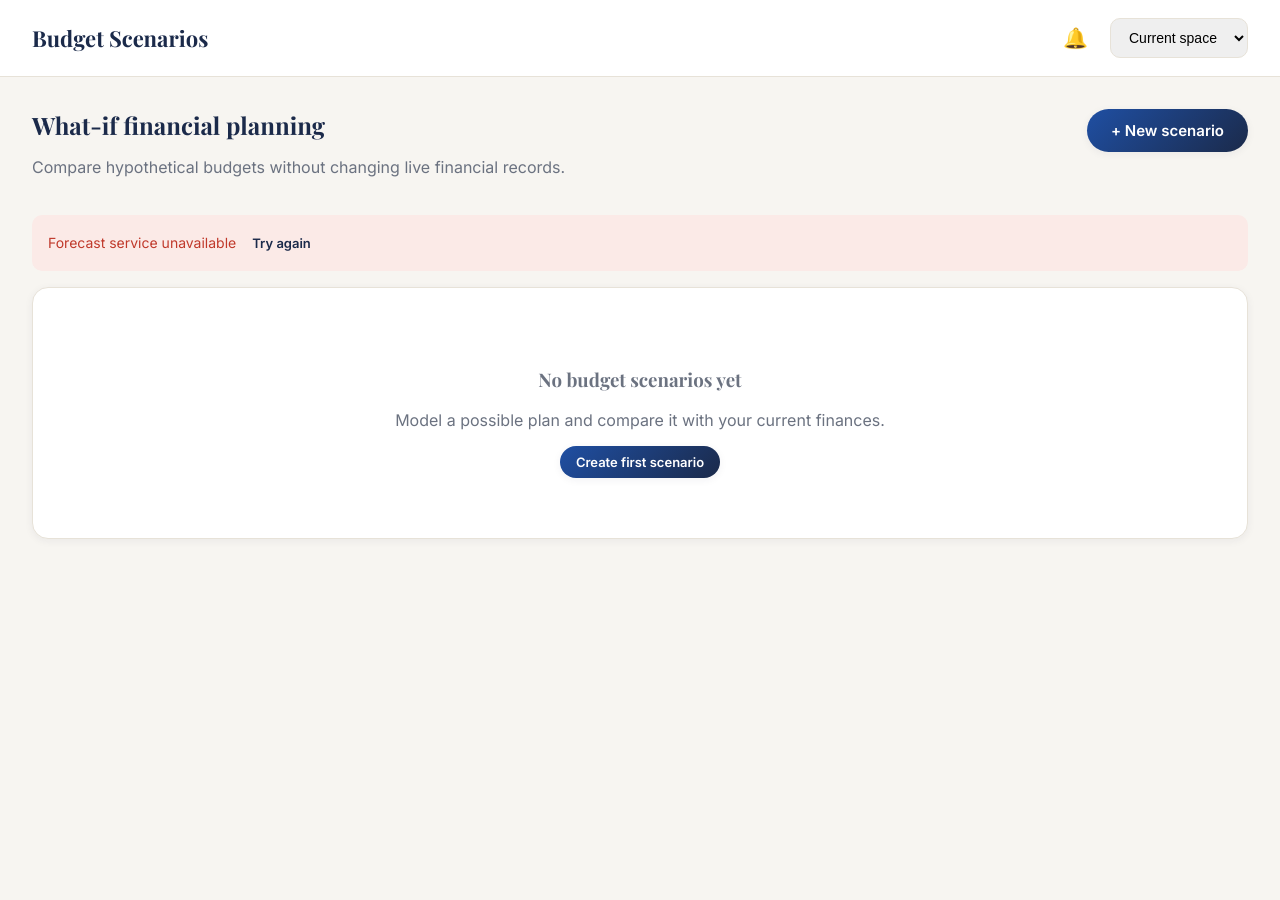
Test: BudgetScenarios loading and selection › shows a load error and retries both resources
The image size is (1280, 900).
Expected: the text "Forecast service unavailable" is shown, top-left (48, 234), bottom-right (236, 251)
Click the button "Try again".
click(282, 243)  # box top-left (236, 227), bottom-right (327, 259)
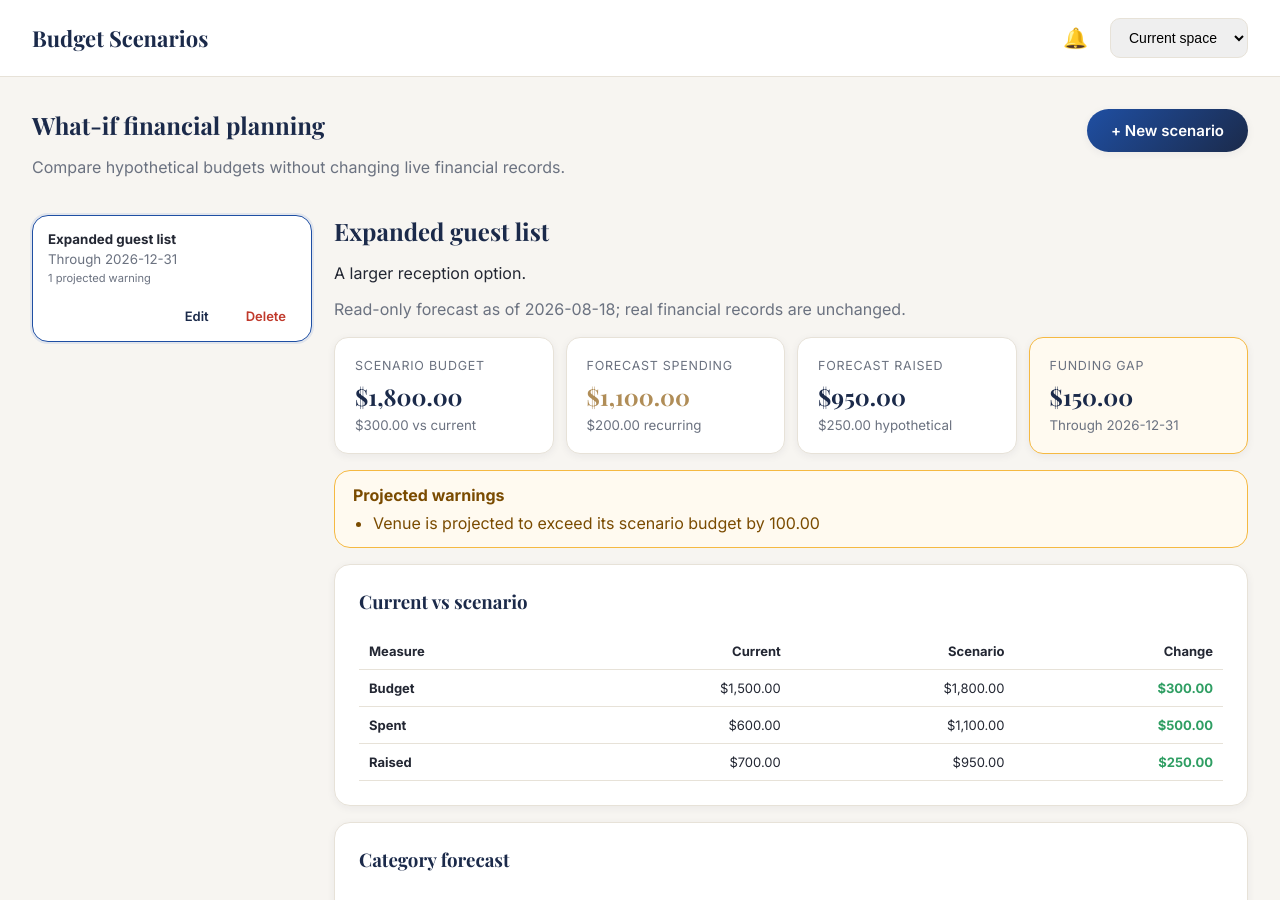
Now the text "Expanded guest list" is shown 2 times, box top-left (48, 231), bottom-right (176, 247); top-left (334, 215), bottom-right (549, 247)
